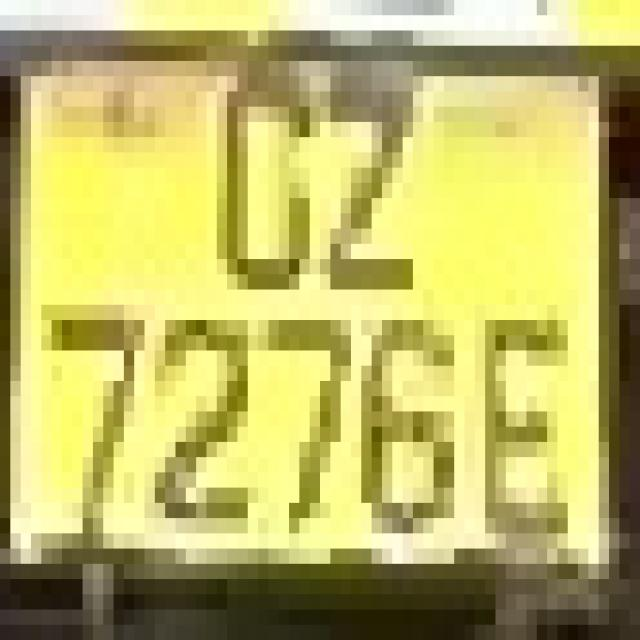2: (124, 244, 258, 548)
6: (362, 274, 464, 579)
7: (10, 244, 155, 564), (238, 228, 372, 548)
C: (196, 30, 320, 305)
E: (454, 259, 578, 549)
Z: (299, 46, 413, 304)
